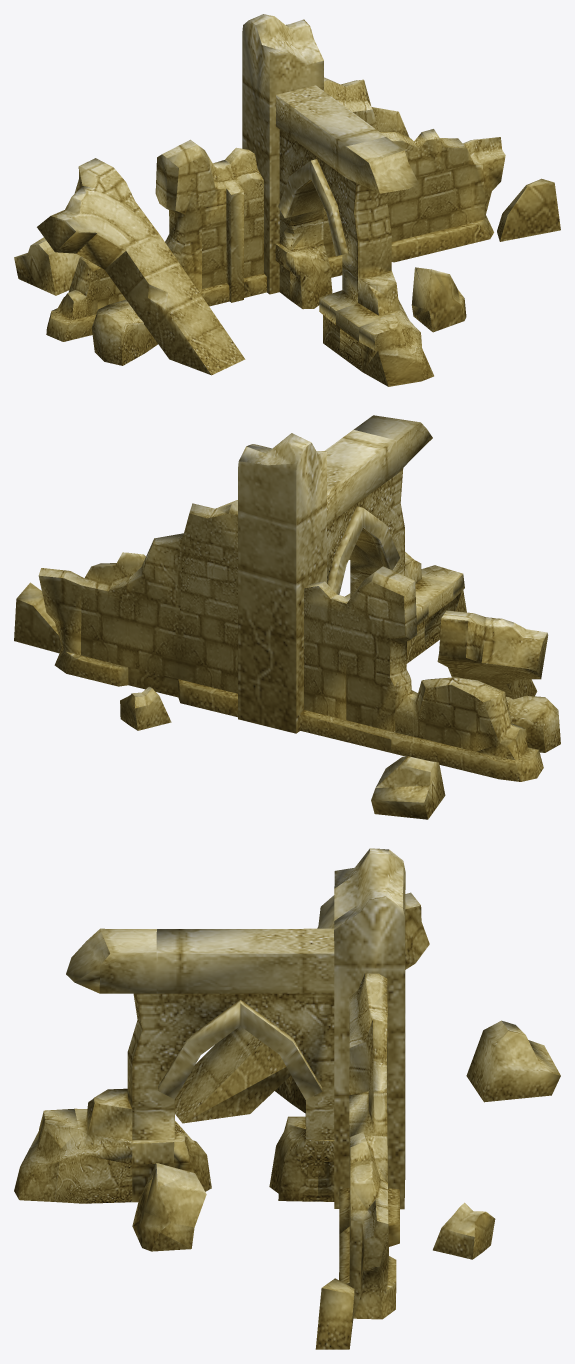
Rendered from SMSH_ Pillar.FBX.
The picture shows the model from 3 angles, top to bottom: view 1: azimuth 30°, elevation 25°; view 2: azimuth 150°, elevation 25°; view 3: azimuth 270°, elevation 25°; orthographic projection. The views are drawn at different scales.
Parts seen in each view (by area): view 1: Ytlds_Pillar; view 2: Ytlds_Pillar; view 3: Ytlds_Pillar.
Part boxes in pixels (bbox=[...]): Ytlds_Pillar: bbox=[14, 14, 560, 386]; Ytlds_Pillar: bbox=[14, 415, 560, 819]; Ytlds_Pillar: bbox=[14, 848, 560, 1349].
Bounding box in the file's own units: 83.87 × 42.83 × 63.28.
